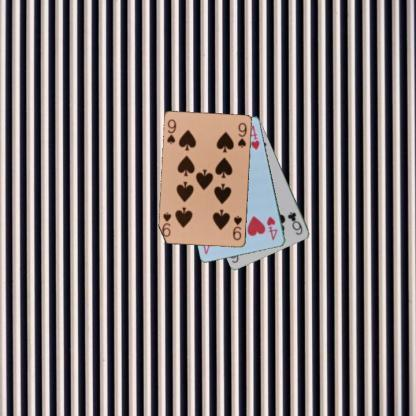4h: (264, 214, 279, 242)
6c: (285, 209, 304, 236)
9s: (230, 213, 244, 242), (165, 116, 177, 146)
